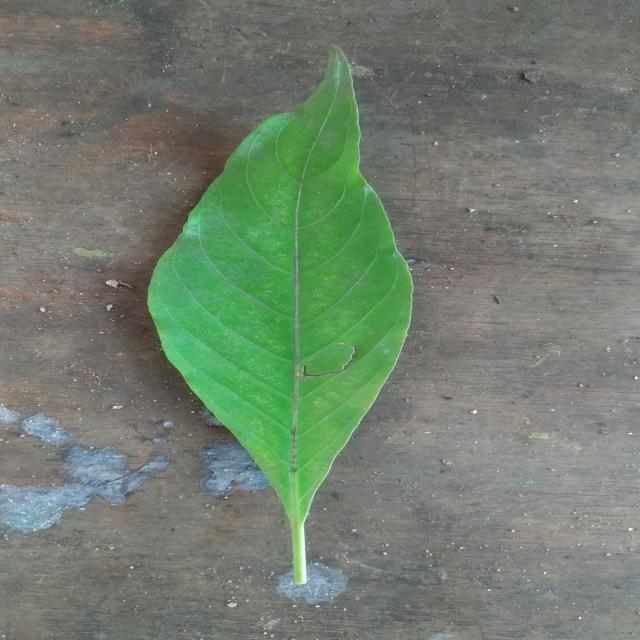malabar_nut: (149, 46, 413, 584)
